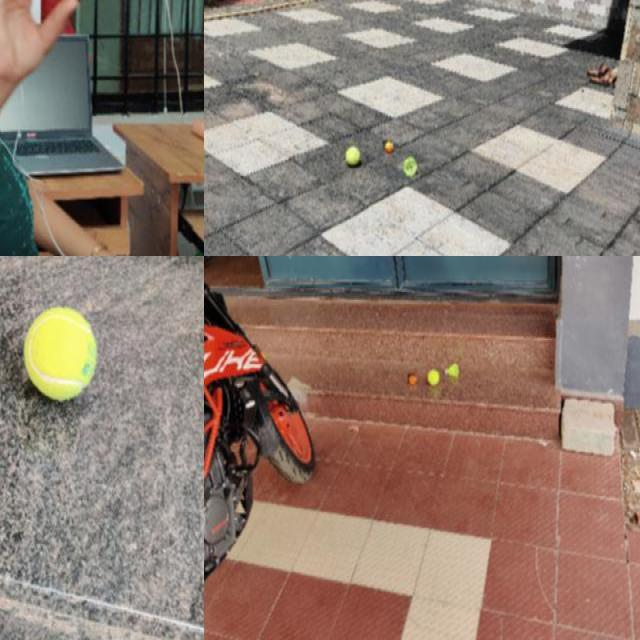ping-pong-ball: (383, 141, 393, 152), (408, 373, 416, 384)
